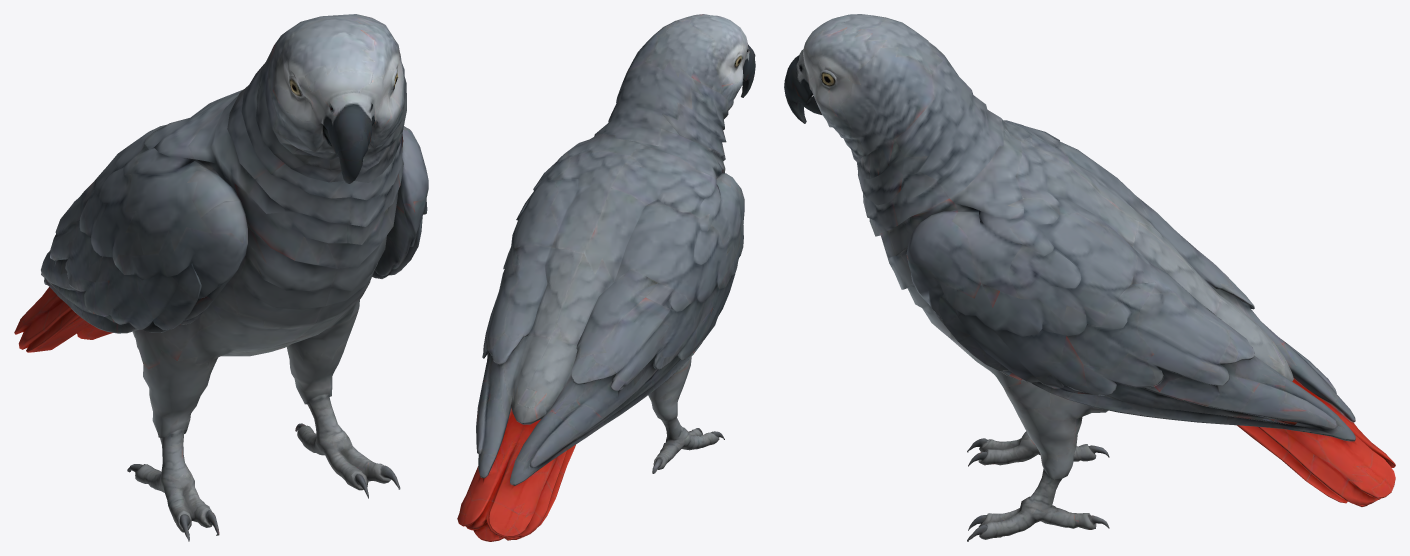
The model's file is grey-big.glb.
The picture shows the model from 3 angles, left to right: view 1: azimuth 30°, elevation 25°; view 2: azimuth 150°, elevation 25°; view 3: azimuth 270°, elevation 25°; orthographic projection. The views are drawn at different scales.
Visible parts, largest first — view 1: geometry_0; view 2: geometry_0; view 3: geometry_0.
Boxes of the visible parts, x1,y1,x2,y2 form: geometry_0: (14, 14, 428, 541); geometry_0: (457, 14, 755, 541); geometry_0: (784, 14, 1395, 541).
Size of the model in its own units: 0.44 by 0.8095 by 0.9521.
Materials: 1 (1 with a texture image).
